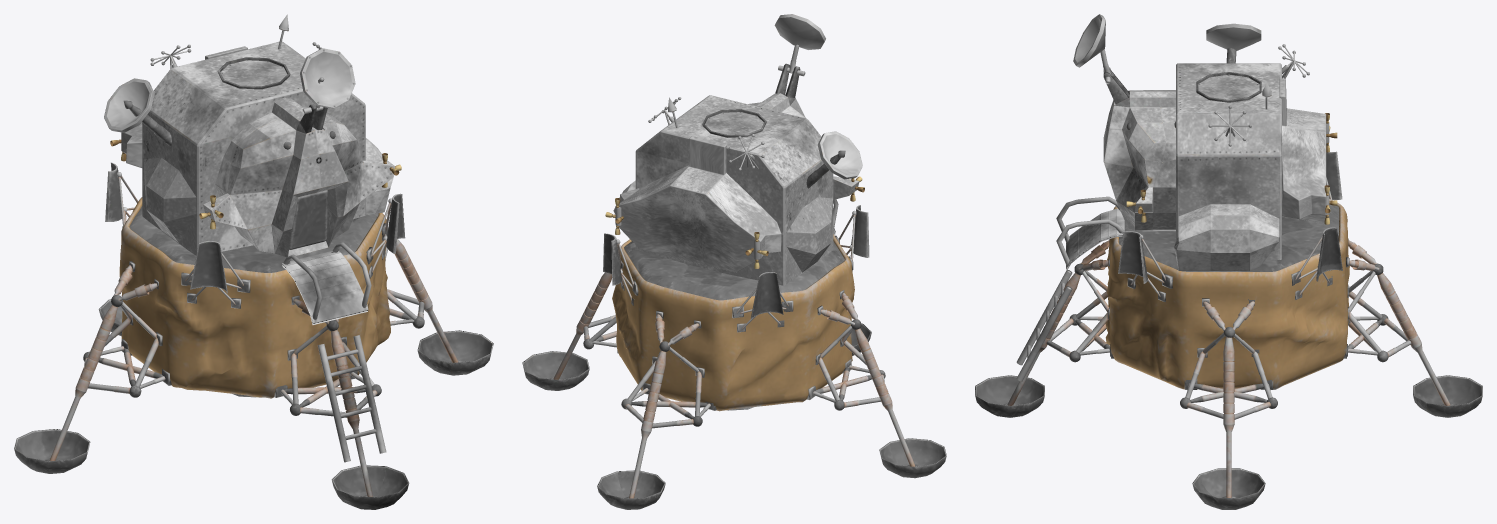
File: apollo-lm-pbr.glb
3 renders of one model, left to right at view 1: azimuth 30°, elevation 25°; view 2: azimuth 150°, elevation 25°; view 3: azimuth 270°, elevation 25°, orthographic. The views are drawn at different scales.
Parts seen in each view (by area): view 1: model_0; view 2: model_0; view 3: model_0.
Part boxes in pixels (x1=…): model_0: x1=14, y1=14, x2=493, y2=509; model_0: x1=522, y1=14, x2=946, y2=509; model_0: x1=975, y1=14, x2=1482, y2=509.
Bounding box in the file's own units: 8.8 × 7.56 × 8.8.
1 material, 1 textured.
